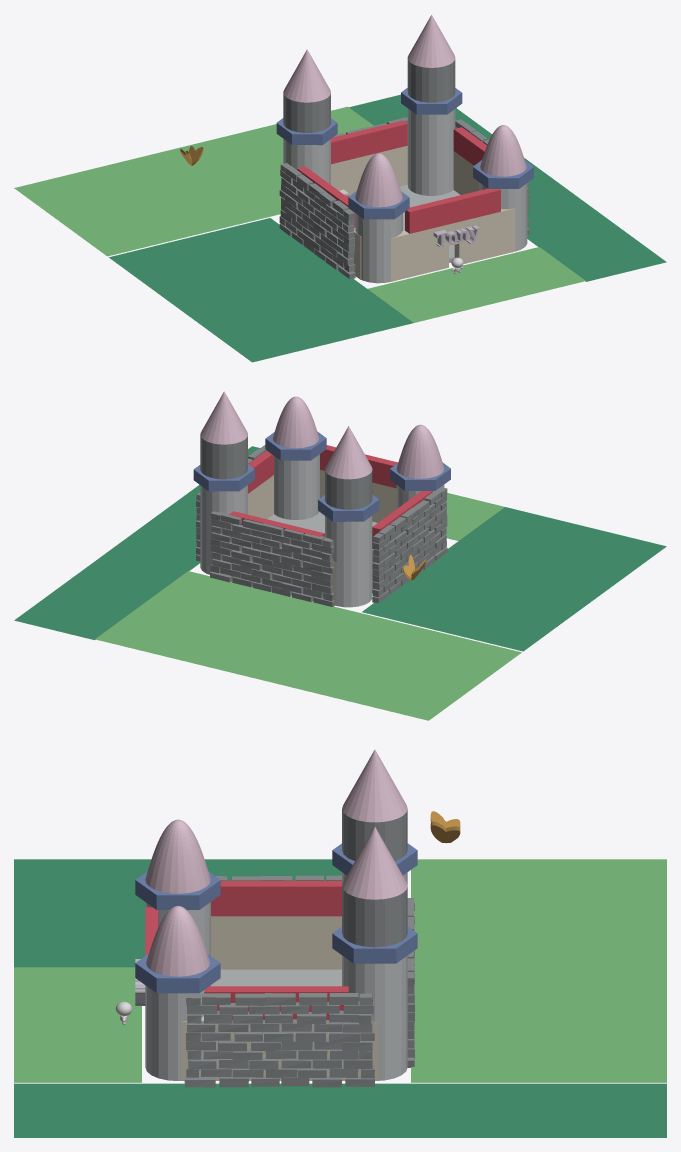
Rendered from Tonycastle.glb.
3 renders of one model, top to bottom at view 1: azimuth 30°, elevation 25°; view 2: azimuth 150°, elevation 25°; view 3: azimuth 270°, elevation 25°, orthographic. The views are drawn at different scales.
Visible parts, largest first — view 1: Mesh_Mesh_head_geo.001_lambert2SG.001; view 2: Mesh_Mesh_head_geo.001_lambert2SG.001; view 3: Mesh_Mesh_head_geo.001_lambert2SG.001.
Part boxes in pixels (x1=…): Mesh_Mesh_head_geo.001_lambert2SG.001: x1=14, y1=15, x2=666, y2=362; Mesh_Mesh_head_geo.001_lambert2SG.001: x1=14, y1=391, x2=666, y2=720; Mesh_Mesh_head_geo.001_lambert2SG.001: x1=14, y1=749, x2=666, y2=1137.
Bounding box in the file's own units: 200 × 81.42 × 199.
